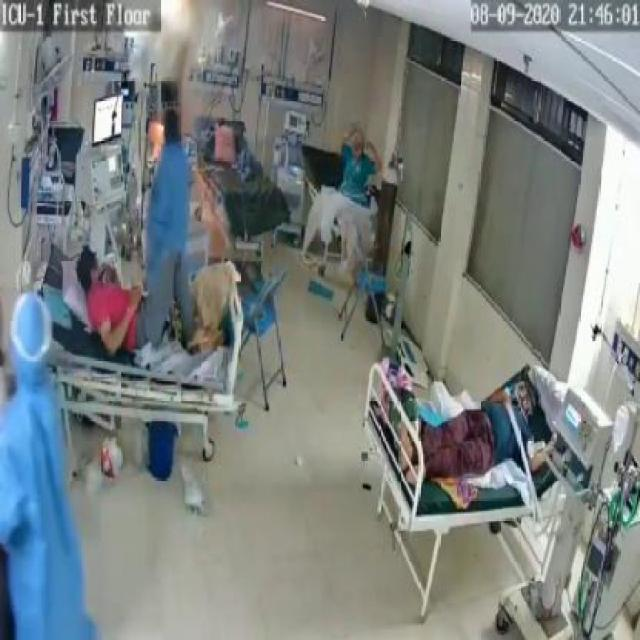fire: (144, 119, 164, 164)
smoke: (140, 1, 200, 78)
